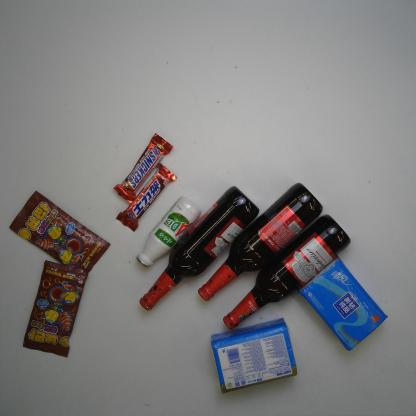Alcohol: (195, 177, 326, 305), (135, 182, 261, 314), (222, 211, 354, 335)
Candy: (9, 189, 113, 278), (18, 259, 91, 362)
Chocolate: (110, 130, 178, 205), (114, 160, 181, 235)
Milk: (132, 192, 204, 270)
Tissue: (298, 254, 390, 354), (209, 312, 300, 395)
